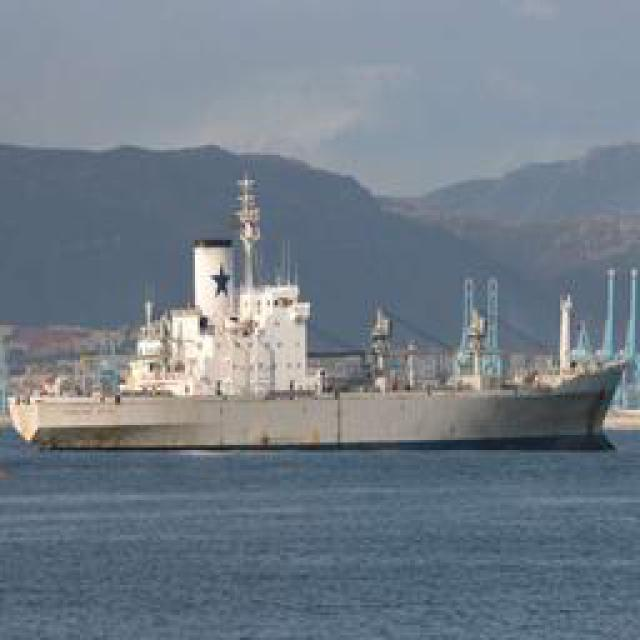Ship: (18, 380, 616, 453)
